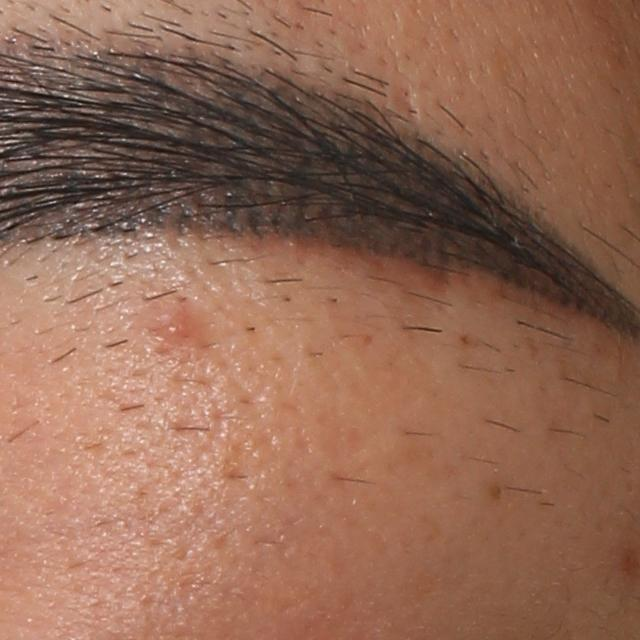papule: (151, 295, 206, 349)
